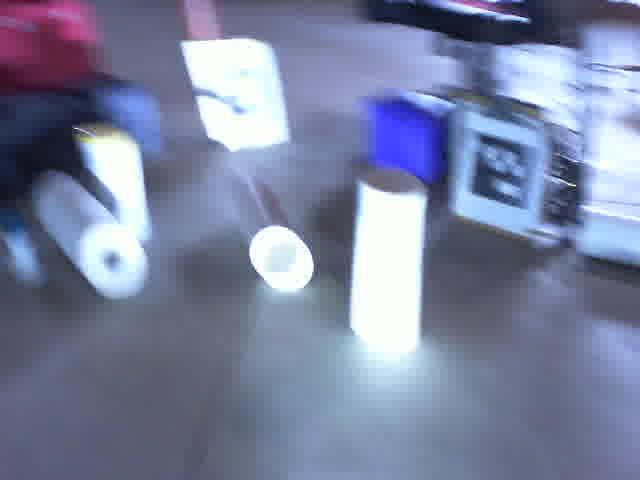coral: (349, 167, 429, 352), (223, 170, 313, 293)
